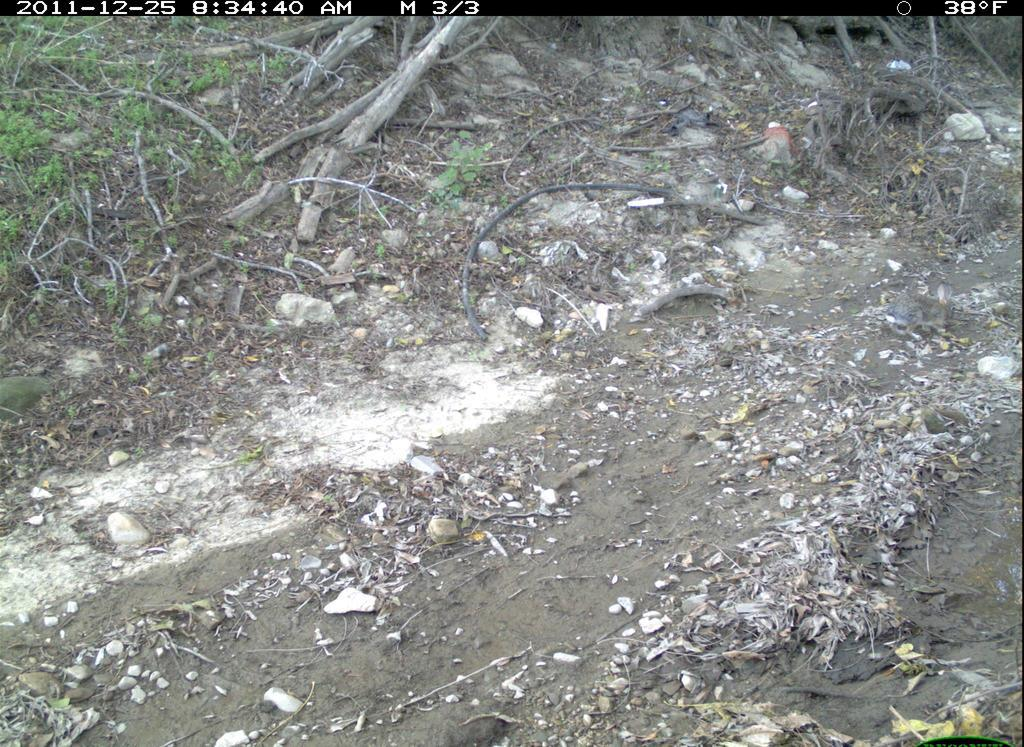rabbit: (882, 280, 960, 344)
